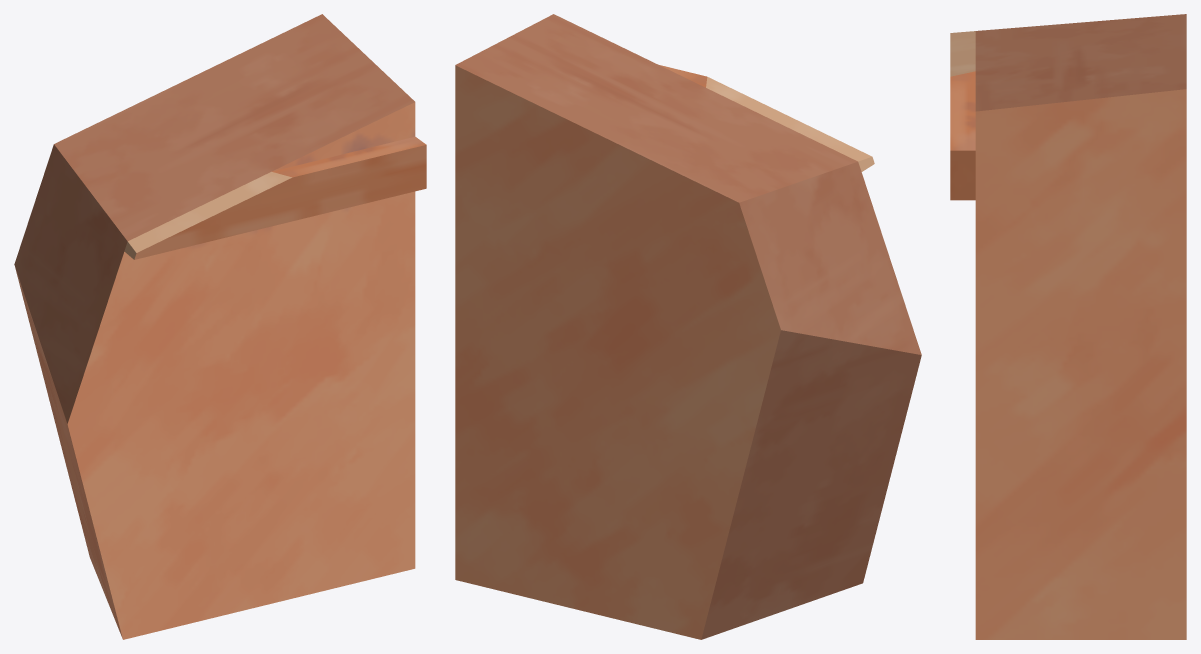
Rendered from wall2_upper_s03.fbx.
3 views of the same model, side by side, from view 1: azimuth 30°, elevation 25°; view 2: azimuth 150°, elevation 25°; view 3: azimuth 270°, elevation 25° (orthographic). The views are drawn at different scales.
Visible parts, largest first — view 1: wall2_upper_s03; view 2: wall2_upper_s03; view 3: wall2_upper_s03.
Boxes of the visible parts, bbox=[...] form: wall2_upper_s03: bbox=[14, 14, 426, 639]; wall2_upper_s03: bbox=[455, 14, 921, 639]; wall2_upper_s03: bbox=[950, 14, 1186, 639].
Size of the model in its own units: 2.16 by 2.88 by 1.12.
